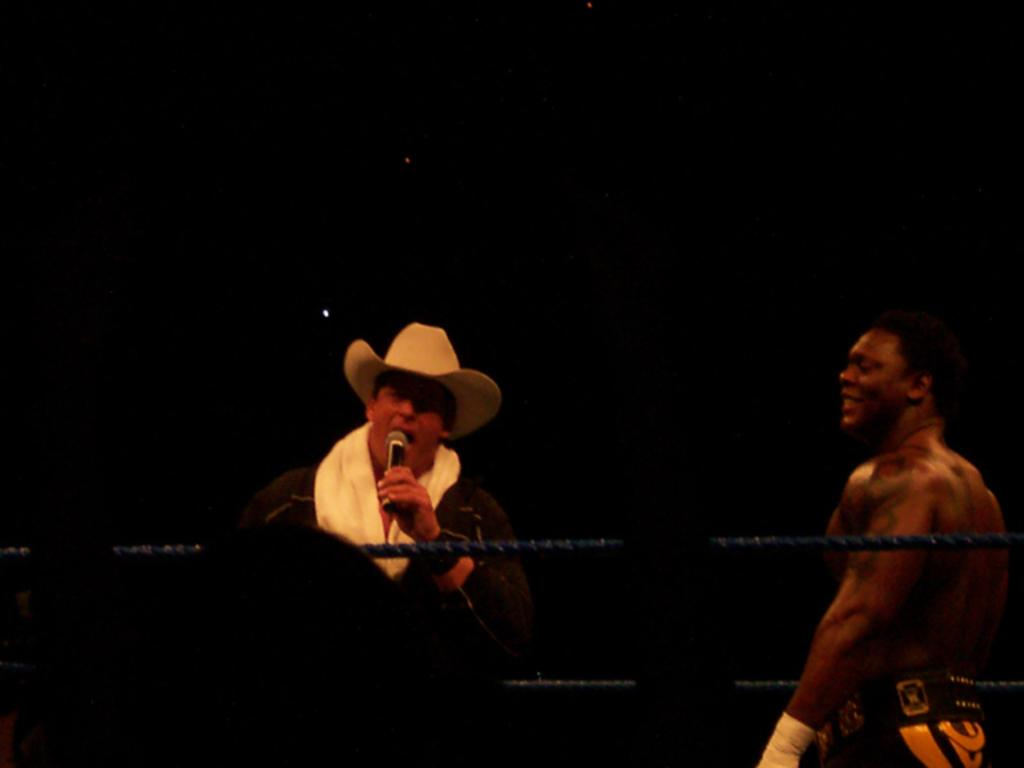Hat: (343, 323, 505, 443)
